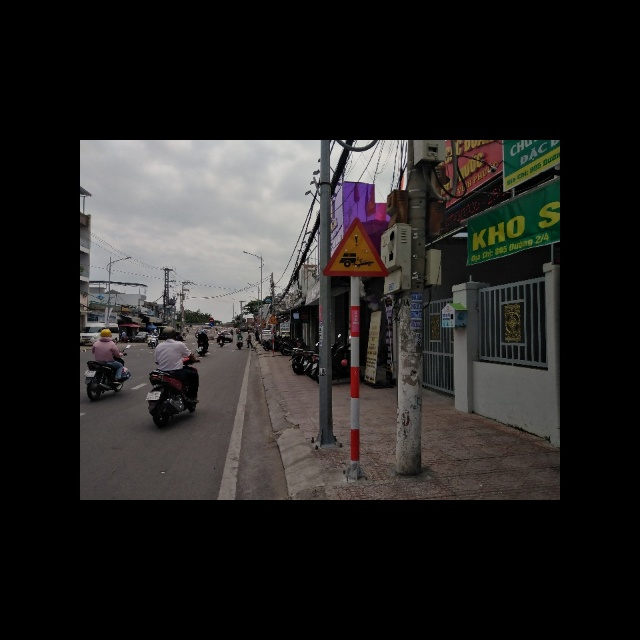Đoạn đường hay xảy ra tai nạn: (322, 217, 391, 277)
